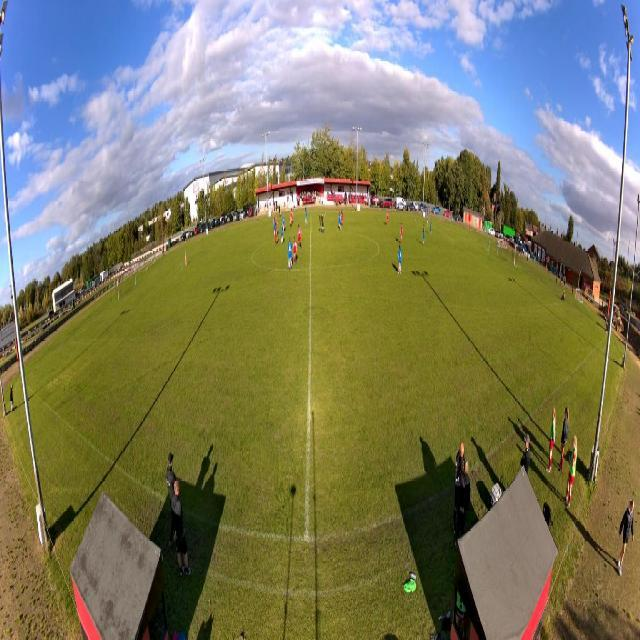ball: (415, 218, 416, 222)
player: (287, 236, 293, 271), (398, 244, 403, 276), (297, 224, 303, 250), (293, 236, 298, 266), (321, 212, 327, 236), (318, 213, 322, 234), (282, 212, 286, 232), (304, 206, 308, 225), (184, 248, 188, 267), (386, 210, 390, 228), (400, 222, 403, 246), (423, 223, 426, 247), (281, 223, 284, 245), (339, 210, 342, 231), (275, 225, 278, 246), (273, 214, 276, 234), (273, 217, 276, 237), (341, 209, 344, 228), (488, 237, 491, 255), (291, 207, 294, 224), (289, 211, 292, 228), (275, 215, 278, 229), (430, 218, 432, 236), (426, 211, 428, 225)
